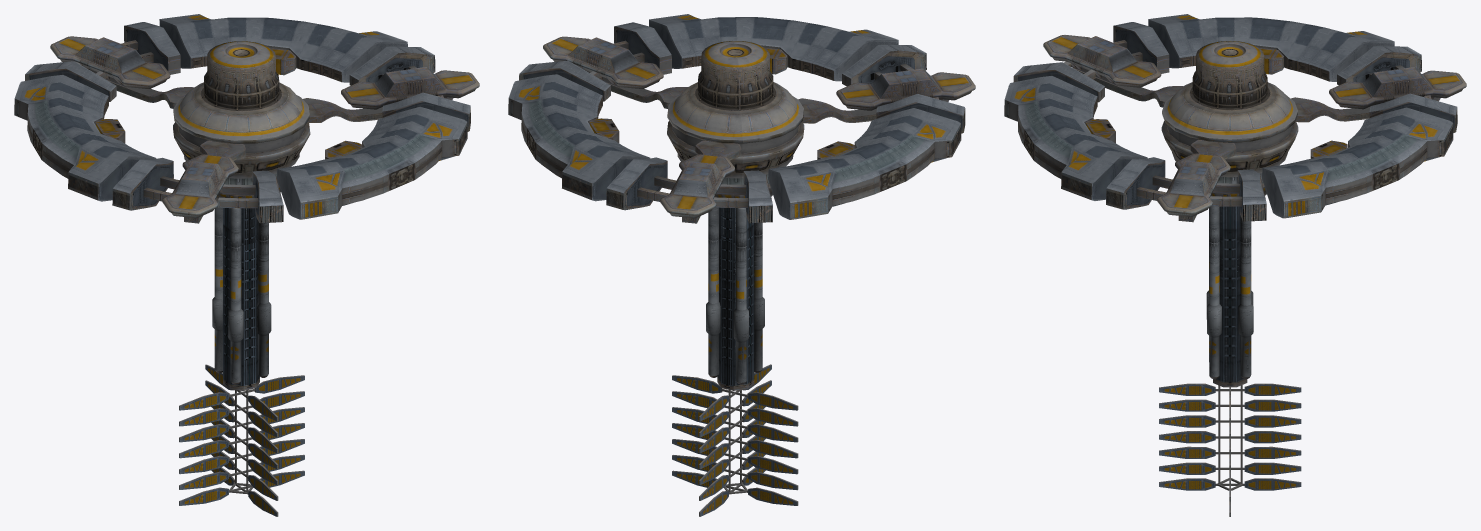
Rendered from space_station.glb.
The picture shows the model from 3 angles, left to right: view 1: azimuth 30°, elevation 25°; view 2: azimuth 150°, elevation 25°; view 3: azimuth 270°, elevation 25°; orthographic projection.
Parts seen in each view (by area): view 1: Object_2; view 2: Object_2; view 3: Object_2.
Boxes of the visible parts, left/top/right/bottom form: Object_2: left=14, top=14, right=479, bottom=516; Object_2: left=508, top=14, right=975, bottom=516; Object_2: left=1004, top=14, right=1466, bottom=516.
Size of the model in its own units: 53.46 by 55.78 by 53.2.
1 material, 1 textured.
